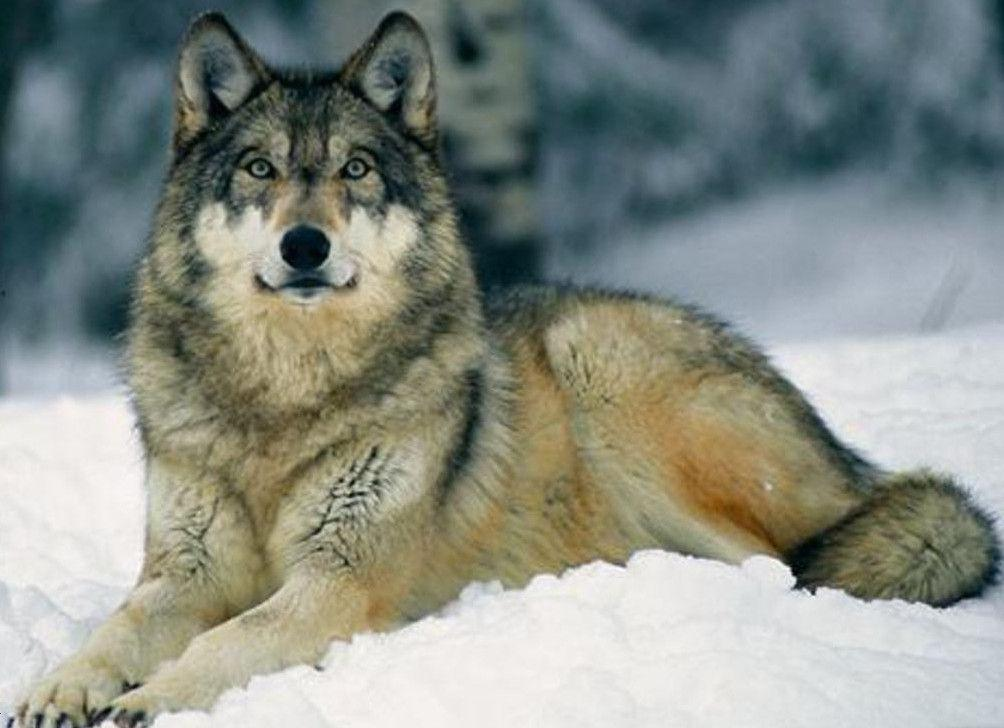Lobo: (126, 9, 1001, 679)
